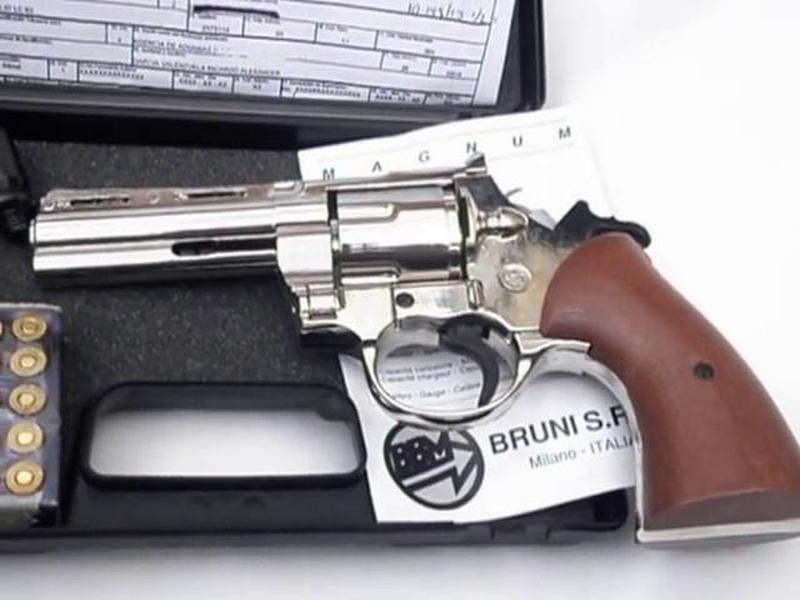Revolver: (18, 156, 702, 426)
